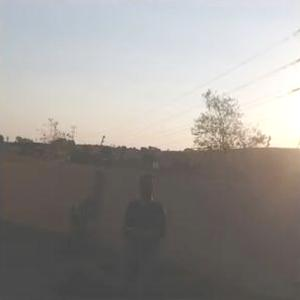follow: (116, 167, 174, 299)
